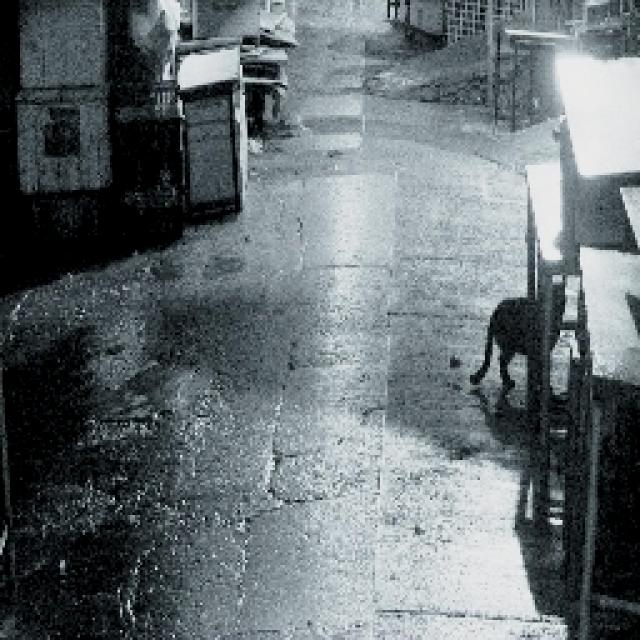cat: (462, 270, 574, 408)
